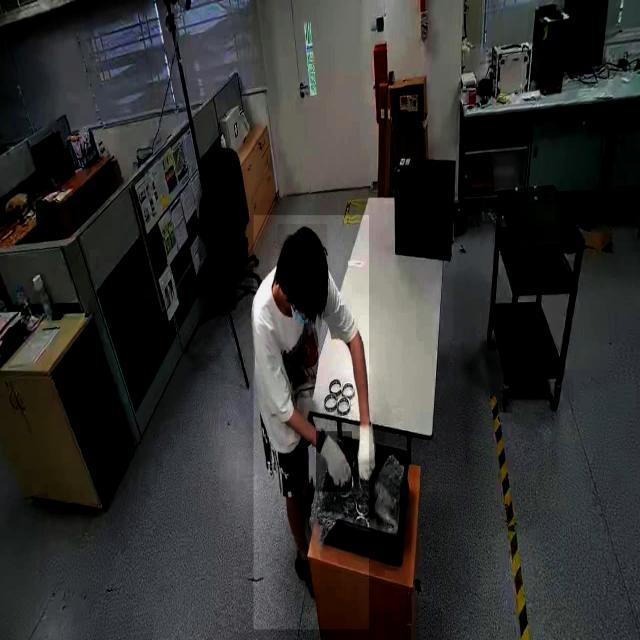hand_glove: (316, 431, 352, 493), (352, 424, 381, 482)
head_nohelmet: (277, 224, 327, 282)
person: (253, 215, 369, 630)
